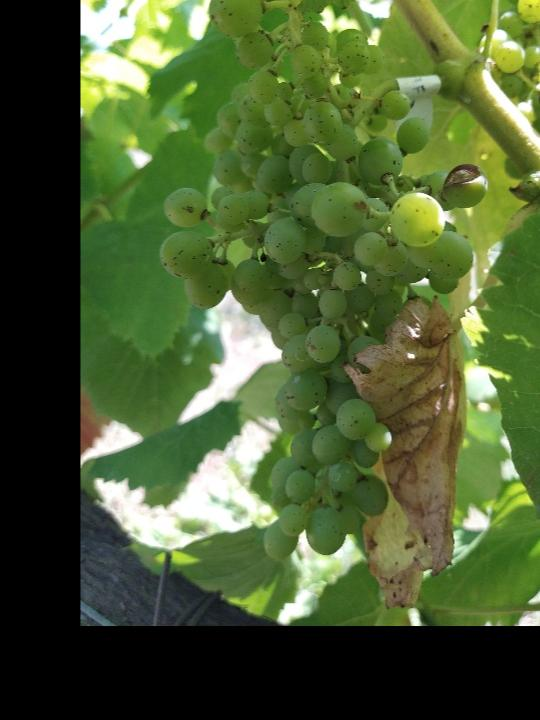grape: (156, 0, 492, 567)
